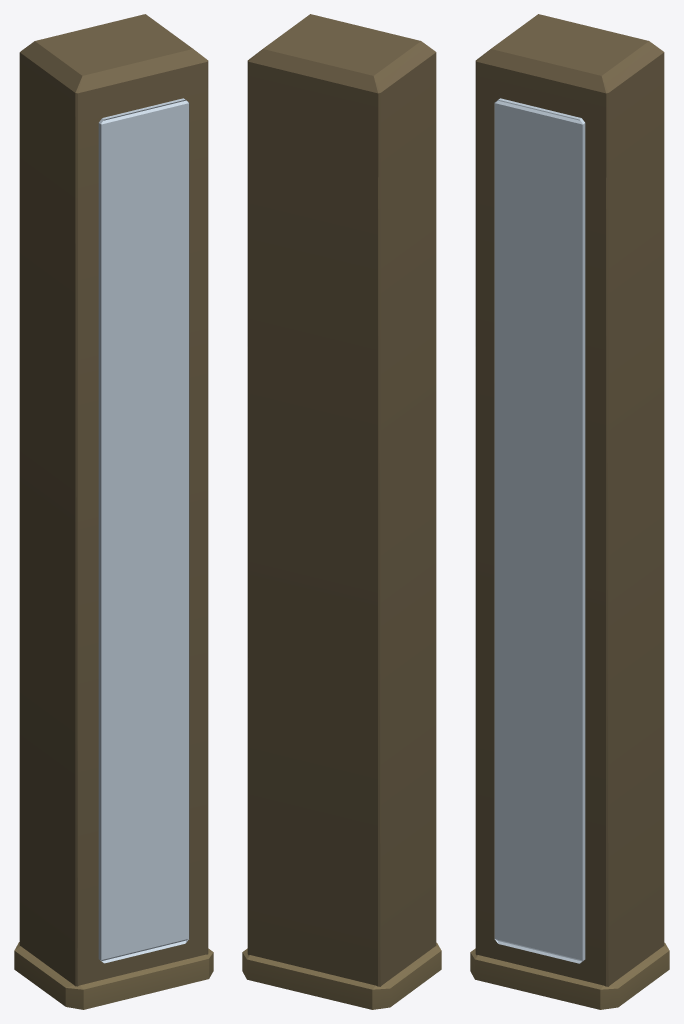
File: Zhongli_StoneSteleAppear_EmptySlot_OneFlatToppedStele.fbx
3 views of the same model, side by side, from view 1: azimuth 30°, elevation 25°; view 2: azimuth 150°, elevation 25°; view 3: azimuth 330°, elevation 25° (orthographic).
Visible parts, largest first — view 1: PART_FlatTopAlignedStele, PART_SteleInsetDarkFrontPanel, PART_VeryThinAlignedSteleFoot; view 2: PART_FlatTopAlignedStele, PART_VeryThinAlignedSteleFoot; view 3: PART_FlatTopAlignedStele, PART_SteleInsetDarkFrontPanel, PART_VeryThinAlignedSteleFoot.
Part boxes in pixels (left/top/right/bottom): PART_FlatTopAlignedStele: left=19, top=14, right=208, bottom=986; PART_SteleInsetDarkFrontPanel: left=98, top=98, right=189, bottom=963; PART_VeryThinAlignedSteleFoot: left=14, top=942, right=213, bottom=1009; PART_FlatTopAlignedStele: left=247, top=14, right=436, bottom=986; PART_VeryThinAlignedSteleFoot: left=242, top=942, right=441, bottom=1009; PART_FlatTopAlignedStele: left=475, top=14, right=664, bottom=986; PART_SteleInsetDarkFrontPanel: left=494, top=98, right=585, bottom=963; PART_VeryThinAlignedSteleFoot: left=470, top=942, right=669, bottom=1009.
Bounding box in the file's own units: 70 × 420 × 53.
